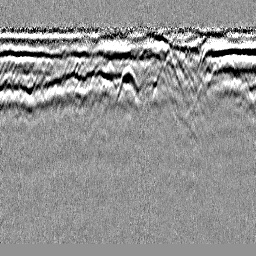cavity: (115, 63, 141, 102)
